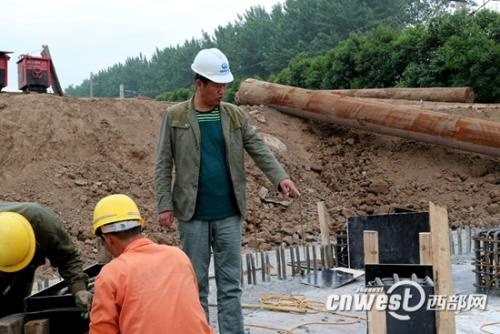white: (189, 46, 236, 105)
yellow: (89, 188, 147, 258), (2, 212, 36, 271)
